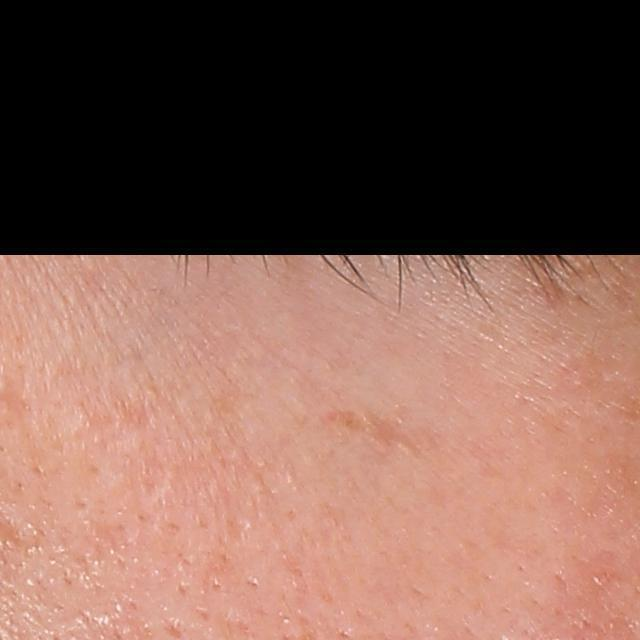melasma: (320, 405, 424, 458)
